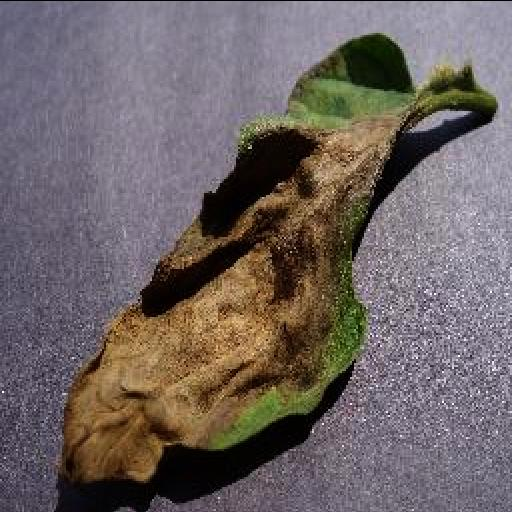disease_tomato: (52, 27, 420, 493)
